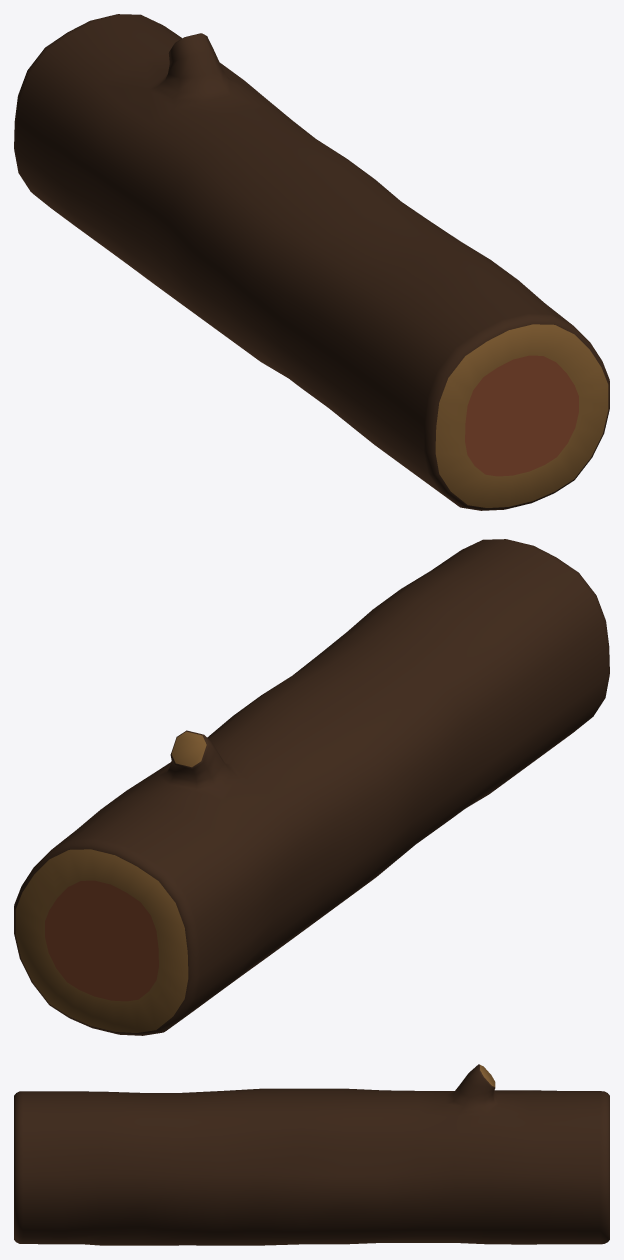
File: log-1.obj
3 views of the same model, one above another, from view 1: azimuth 30°, elevation 25°; view 2: azimuth 150°, elevation 25°; view 3: azimuth 270°, elevation 25° (orthographic). The views are drawn at different scales.
Visible parts, largest first — view 1: Log_Cylinder; view 2: Log_Cylinder; view 3: Log_Cylinder.
Part boxes in pixels (x1,y1,x2,y2): Log_Cylinder: [14, 14, 609, 510]; Log_Cylinder: [14, 539, 609, 1035]; Log_Cylinder: [14, 1064, 609, 1245].
Size of the model in its own units: 0.2627 by 0.3088 by 0.9866.
